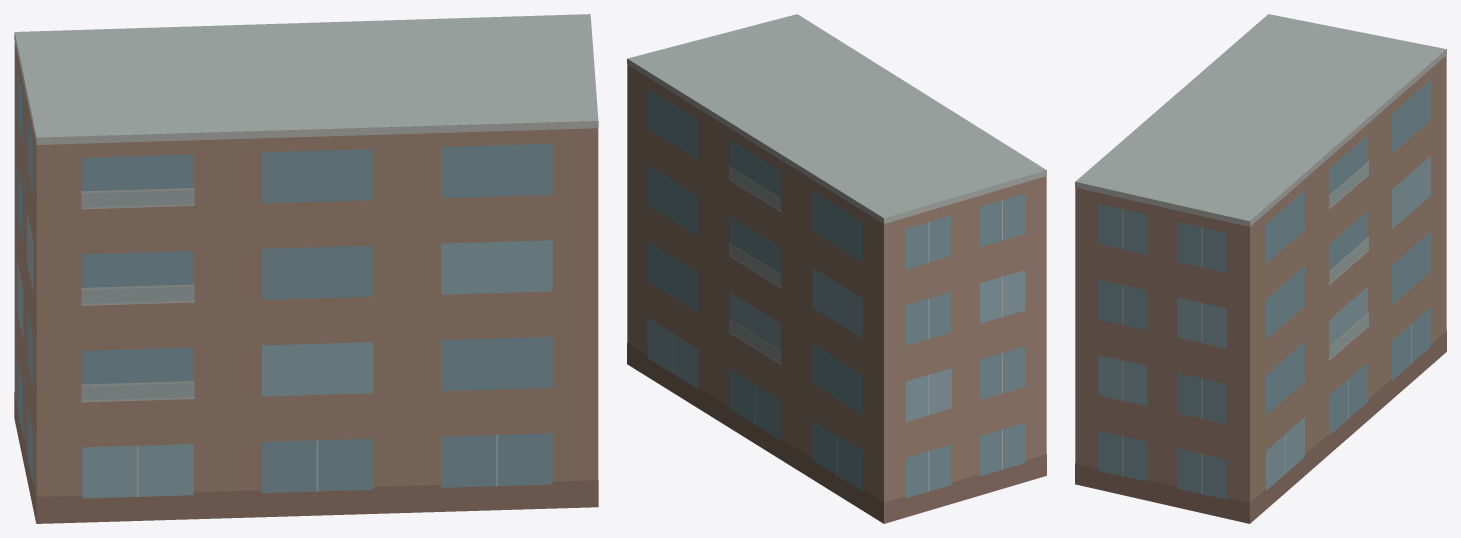
The model's file is survey-upis-32933219.glb.
3 views of the same model, side by side, from view 1: azimuth 30°, elevation 25°; view 2: azimuth 150°, elevation 25°; view 3: azimuth 270°, elevation 25° (orthographic). The views are drawn at different scales.
Visible parts, largest first — view 1: survey-upis-32933219.tmp; view 2: survey-upis-32933219.tmp; view 3: survey-upis-32933219.tmp.
Part boxes in pixels (left/top/right/bottom): survey-upis-32933219.tmp: left=14, top=14, right=598, bottom=523; survey-upis-32933219.tmp: left=627, top=14, right=1046, bottom=523; survey-upis-32933219.tmp: left=1075, top=14, right=1446, bottom=523.
Bounding box in the file's own units: 18.82 × 12.8 × 14.26.
